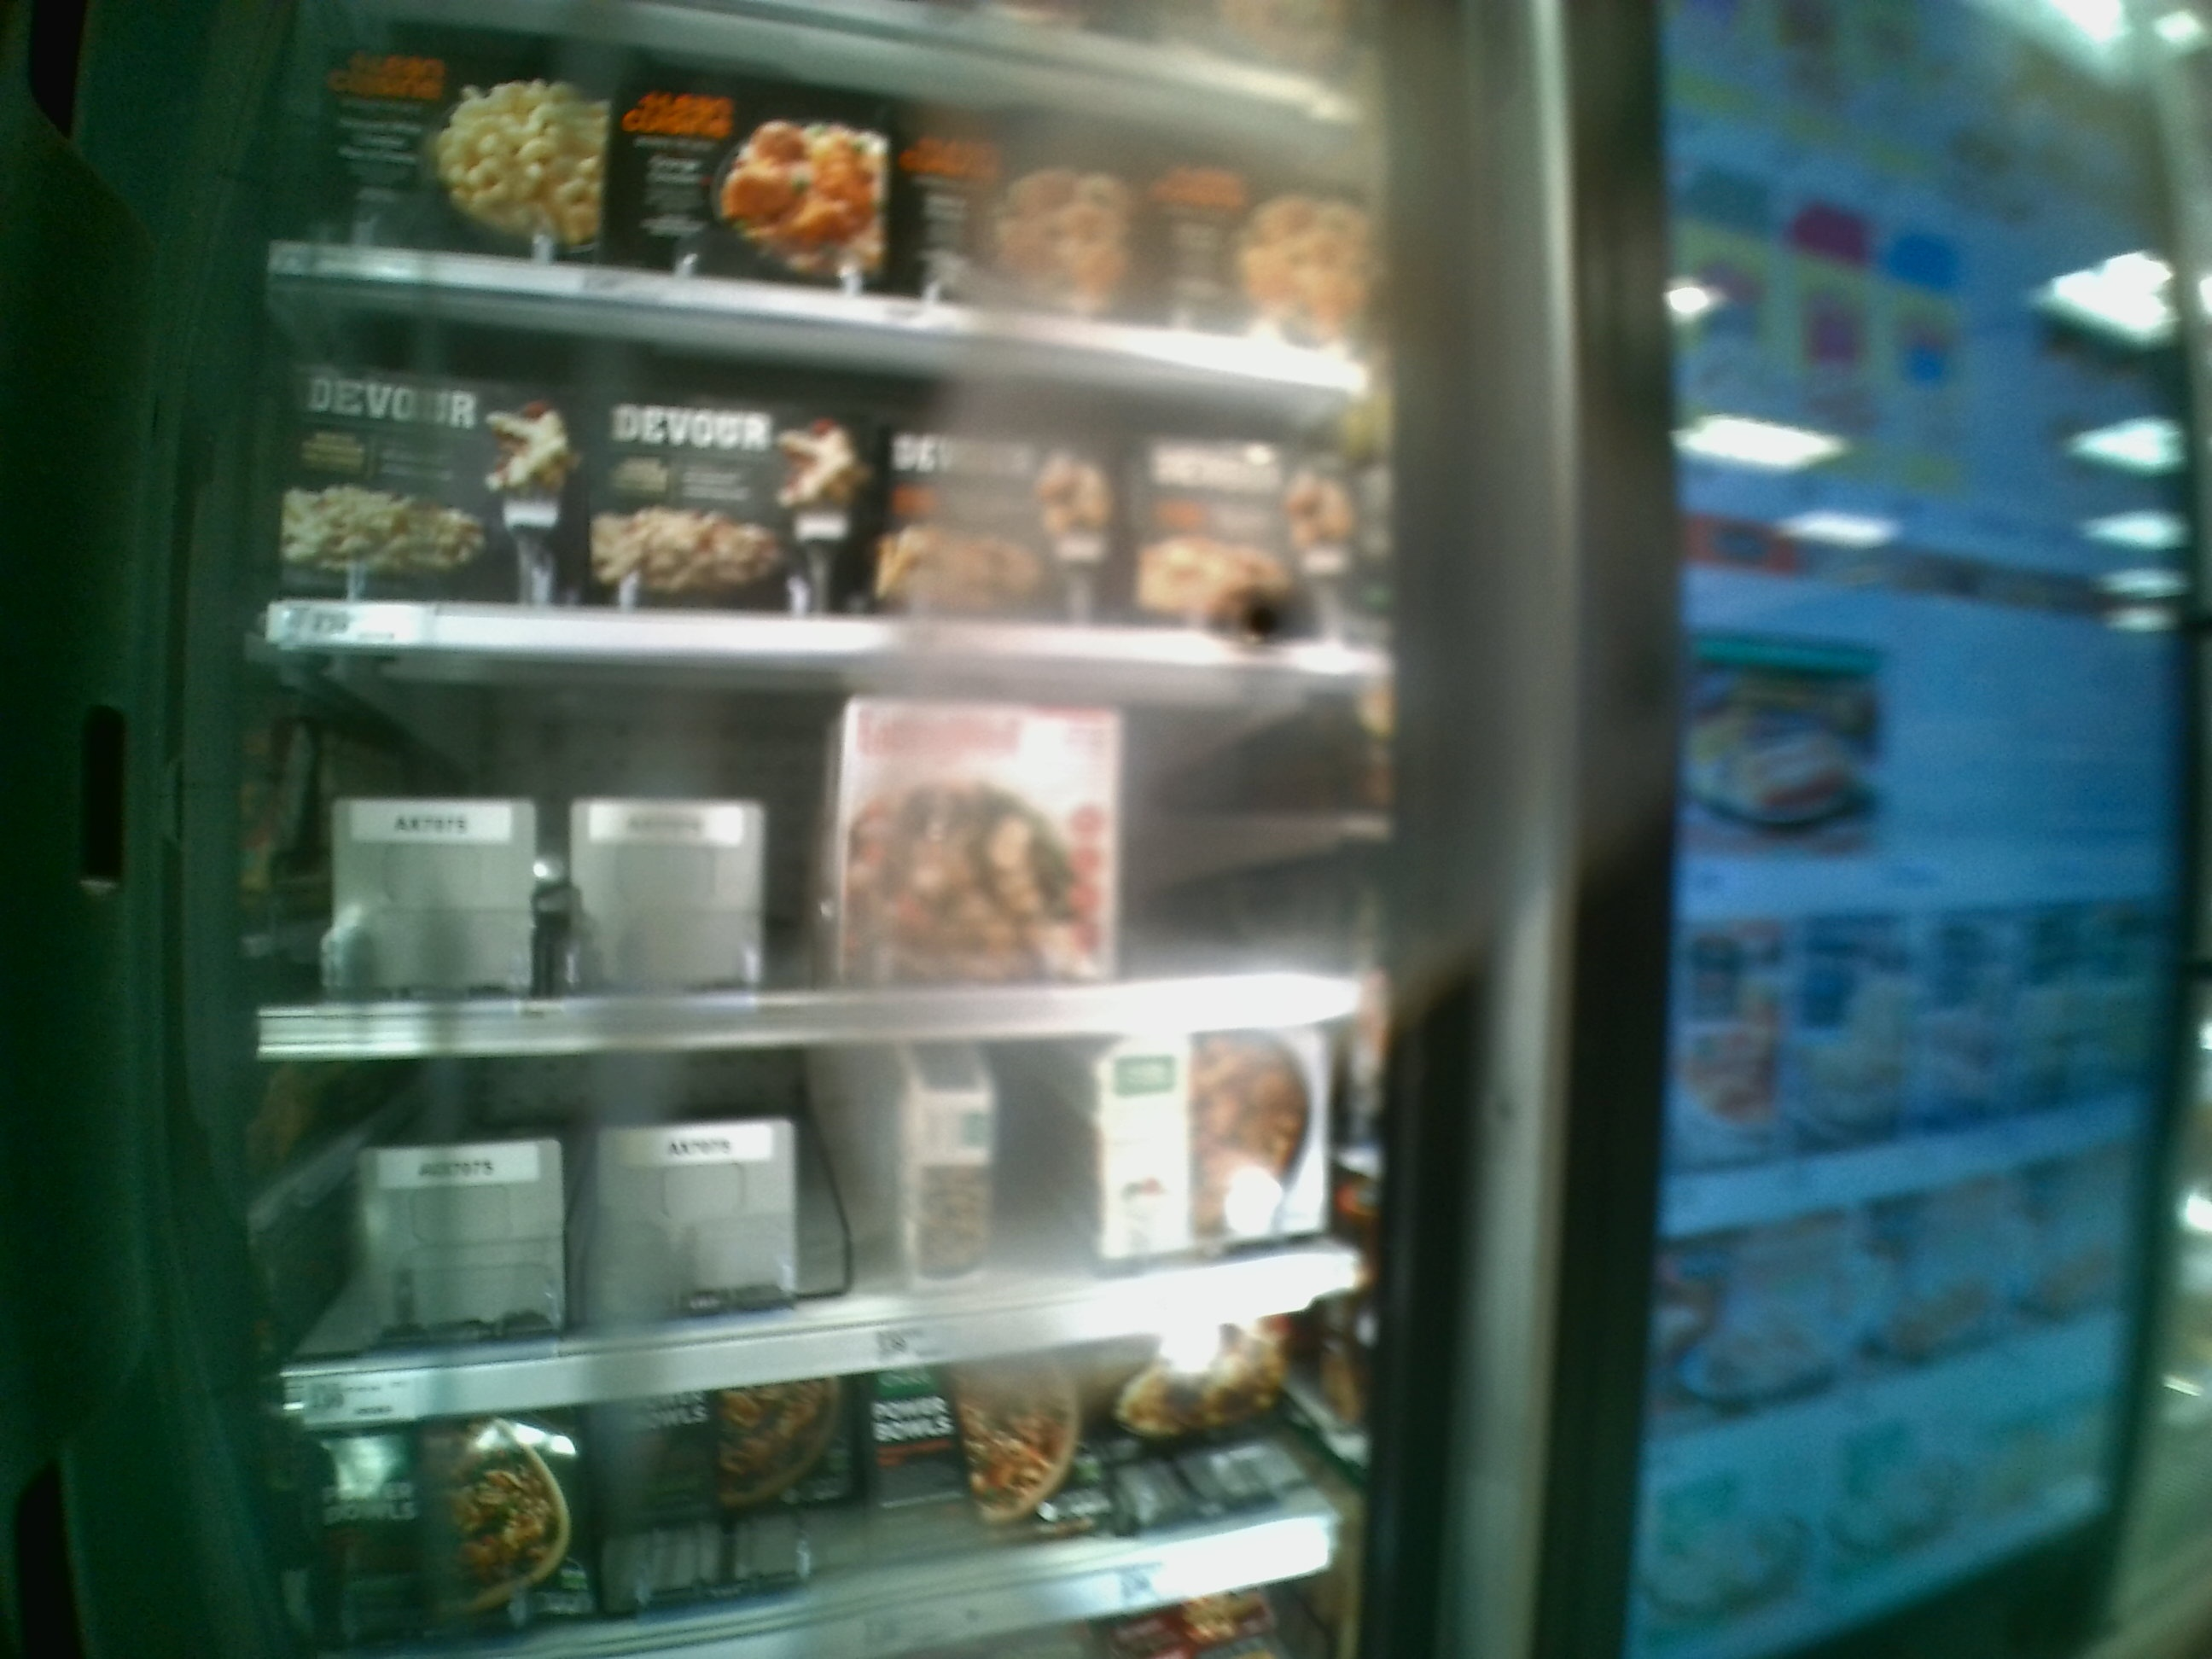shelf: (239, 647, 1393, 1049), (270, 1023, 1372, 1413)
